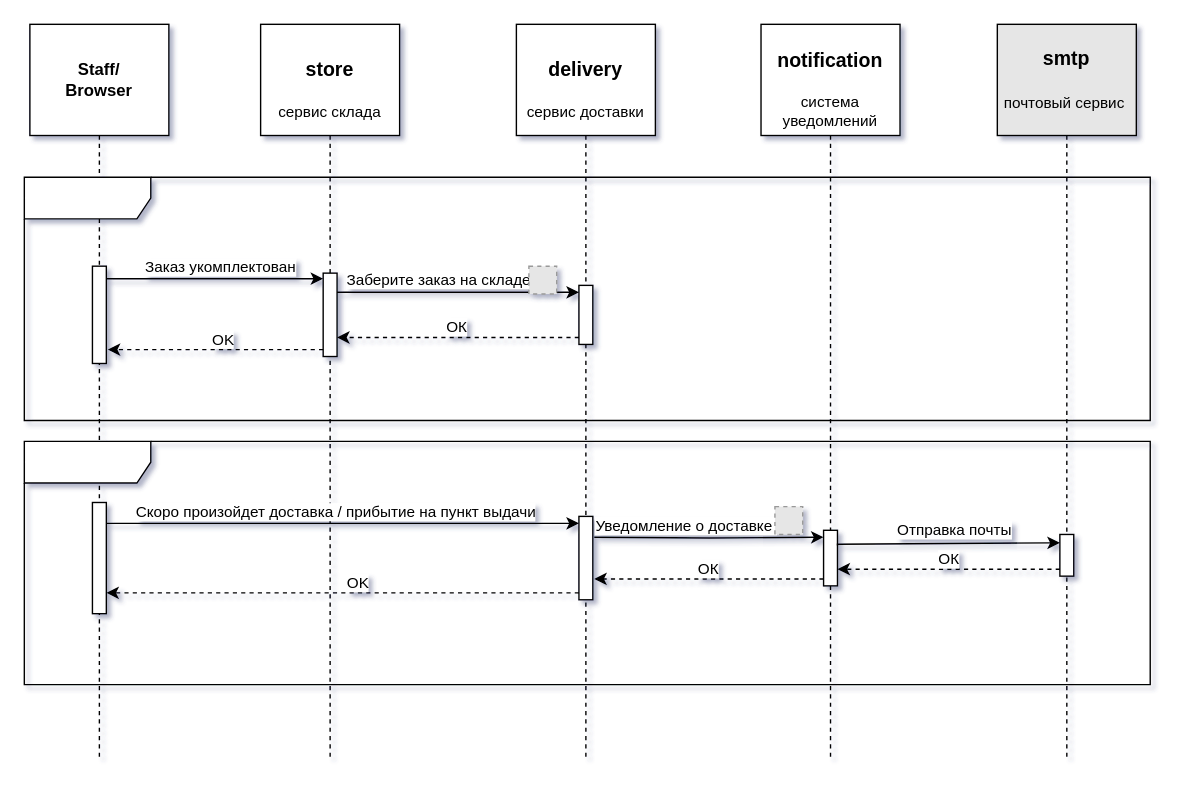
The diagram is 1183 pixels wide and 794 high, and some of its shapes have lost their labels. Grey dashed boxes stand in for pictures. The shapes that lost their labels are listed below. From the top down, each one's box as (x1, y1, x2, y2) in pixels, then its label:
(23, 176, 1150, 420): обработка на складе
(23, 440, 1150, 685): обработка в доставке
